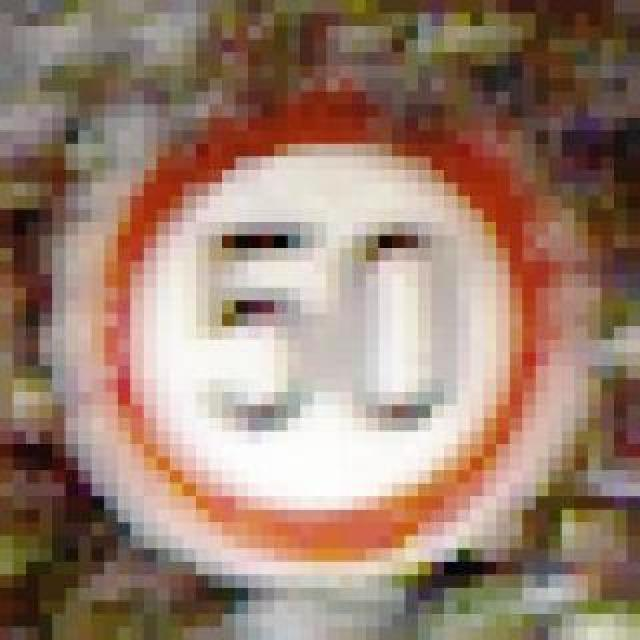50 kph: (80, 92, 550, 562)
